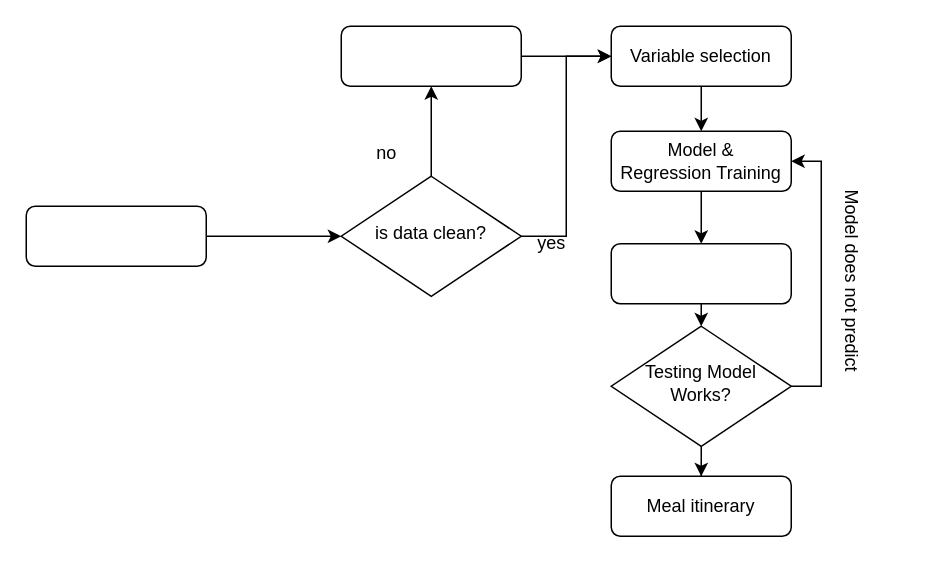
This 938x563 diagram has some shape labels left out. The shapes that lost their labels are listed below. From the top down, each one's centre as x and y in pixels, then its label:
At (x=430, y=55): "Data Cleansing".
At (x=115, y=235): "Raw Data".
At (x=700, y=273): "Prediction using Regression model".
